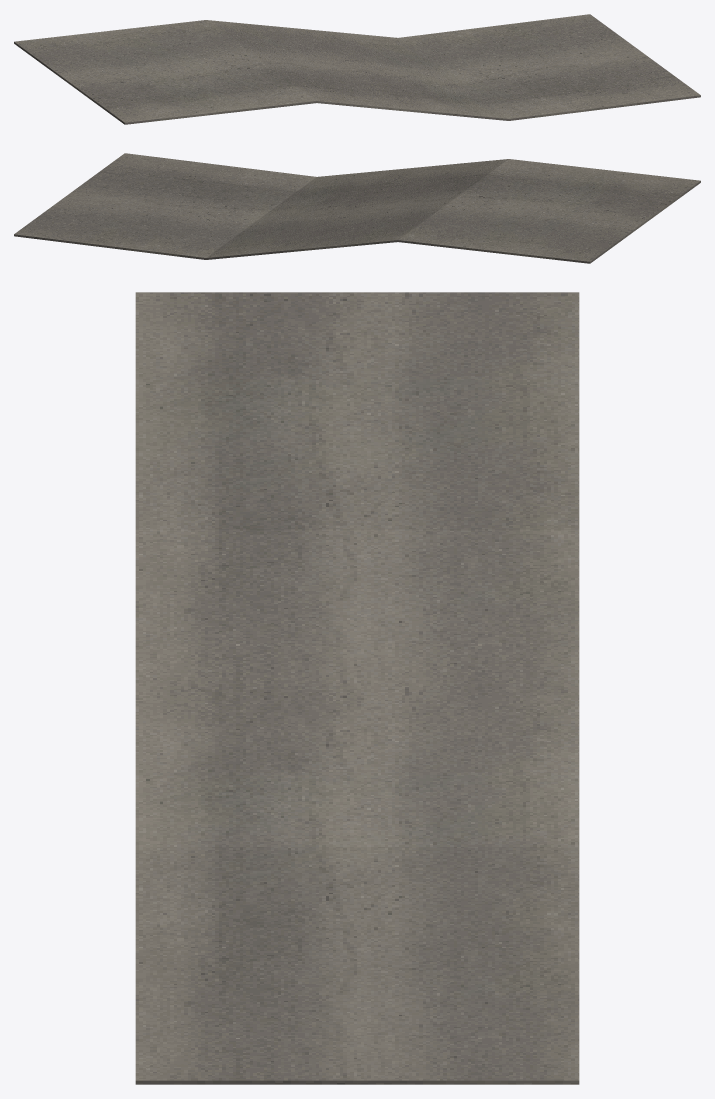
Rendered from road_3_slope_no_sides.glb.
3 views of the same model, one above another, from view 1: azimuth 30°, elevation 25°; view 2: azimuth 150°, elevation 25°; view 3: azimuth 270°, elevation 25° (orthographic). The views are drawn at different scales.
Parts seen in each view (by area): view 1: road_3_slope_no_sides; view 2: road_3_slope_no_sides; view 3: road_3_slope_no_sides.
Part boxes in pixels (box(x1,y1,x2,y2)): road_3_slope_no_sides: box(14, 14, 700, 124); road_3_slope_no_sides: box(14, 153, 700, 263); road_3_slope_no_sides: box(135, 292, 579, 1084).
Bounding box in the file's own units: 48 × 9.16 × 16.
1 material, 1 textured.
